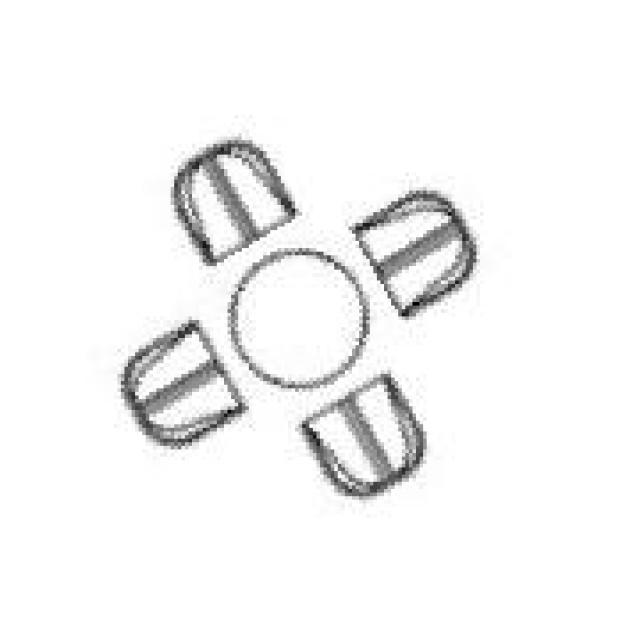table: (118, 140, 476, 496)
